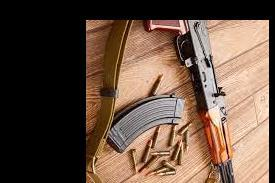larga: (143, 20, 237, 183)
